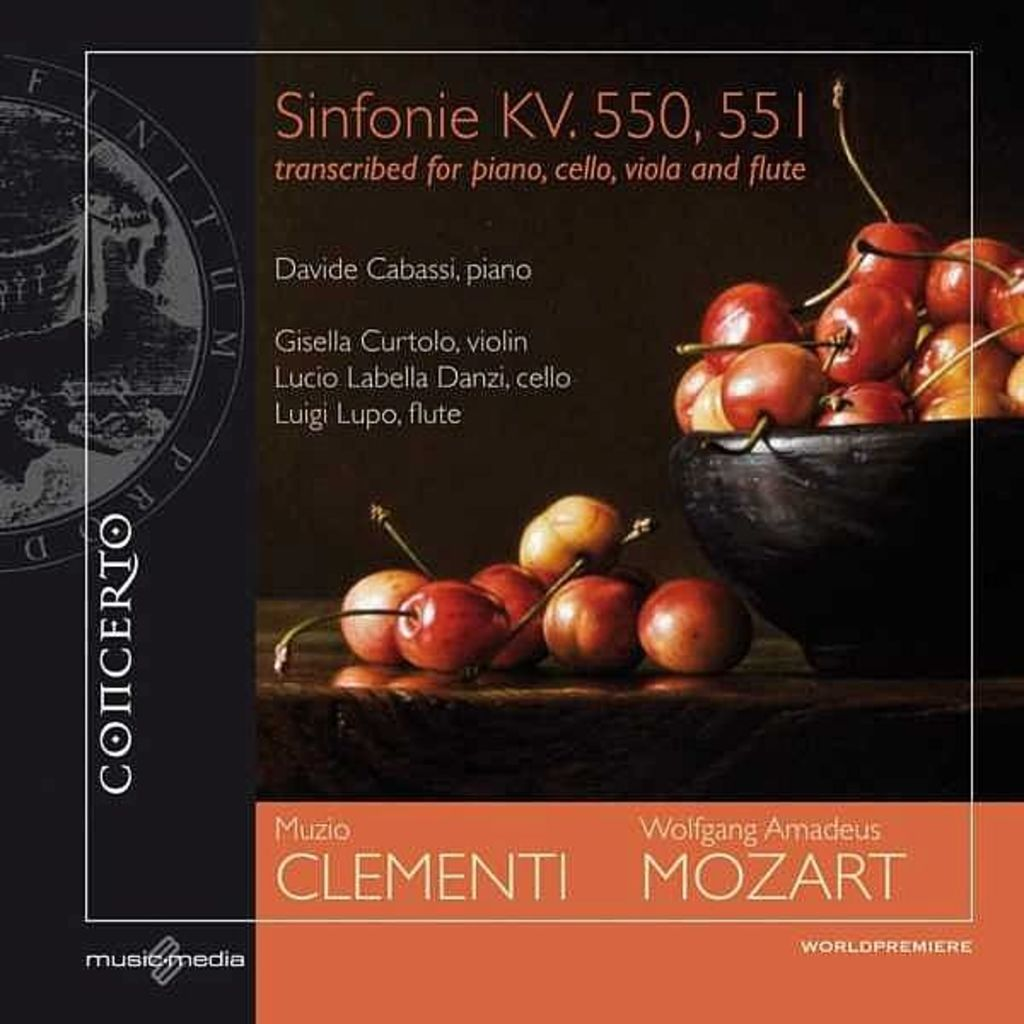Apple: (614, 570, 756, 689)
